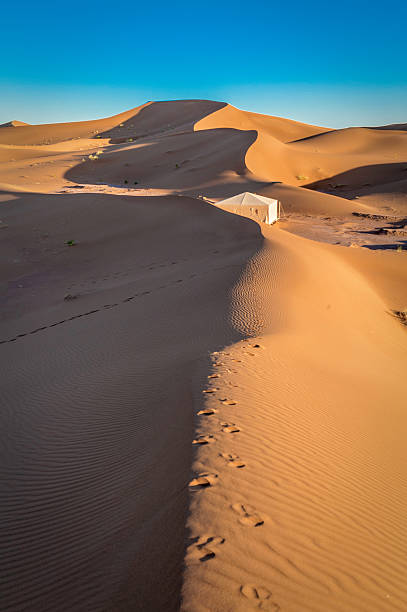human_footprint: (240, 584, 279, 611), (187, 535, 224, 561), (231, 503, 263, 526), (189, 472, 217, 489), (219, 453, 245, 468), (192, 434, 216, 445), (221, 422, 240, 433), (220, 398, 237, 406), (197, 408, 216, 415)
